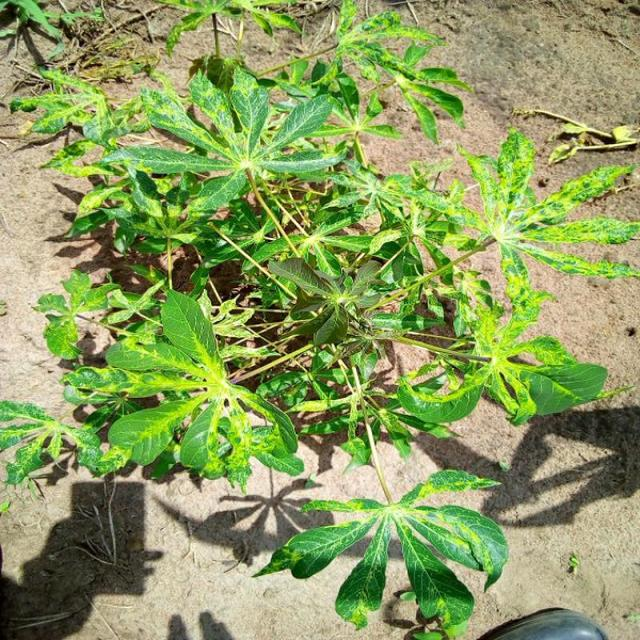cassava leaf: (2, 4, 638, 636), (251, 433, 509, 636)
